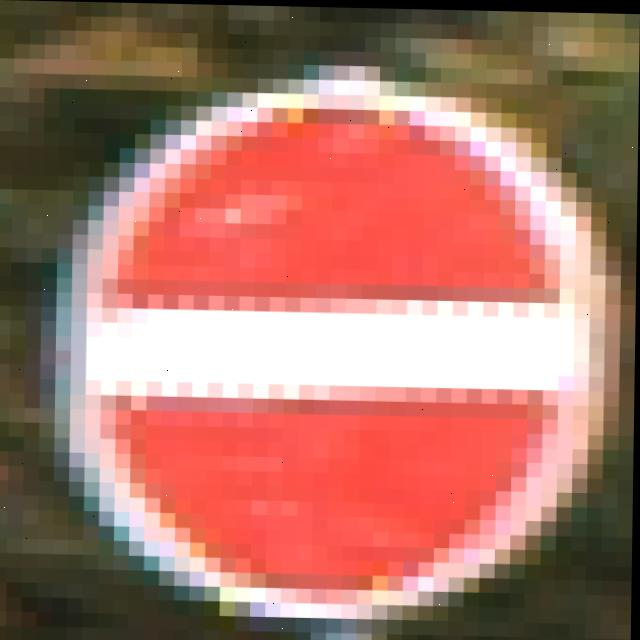road_rough: (64, 94, 597, 629)
